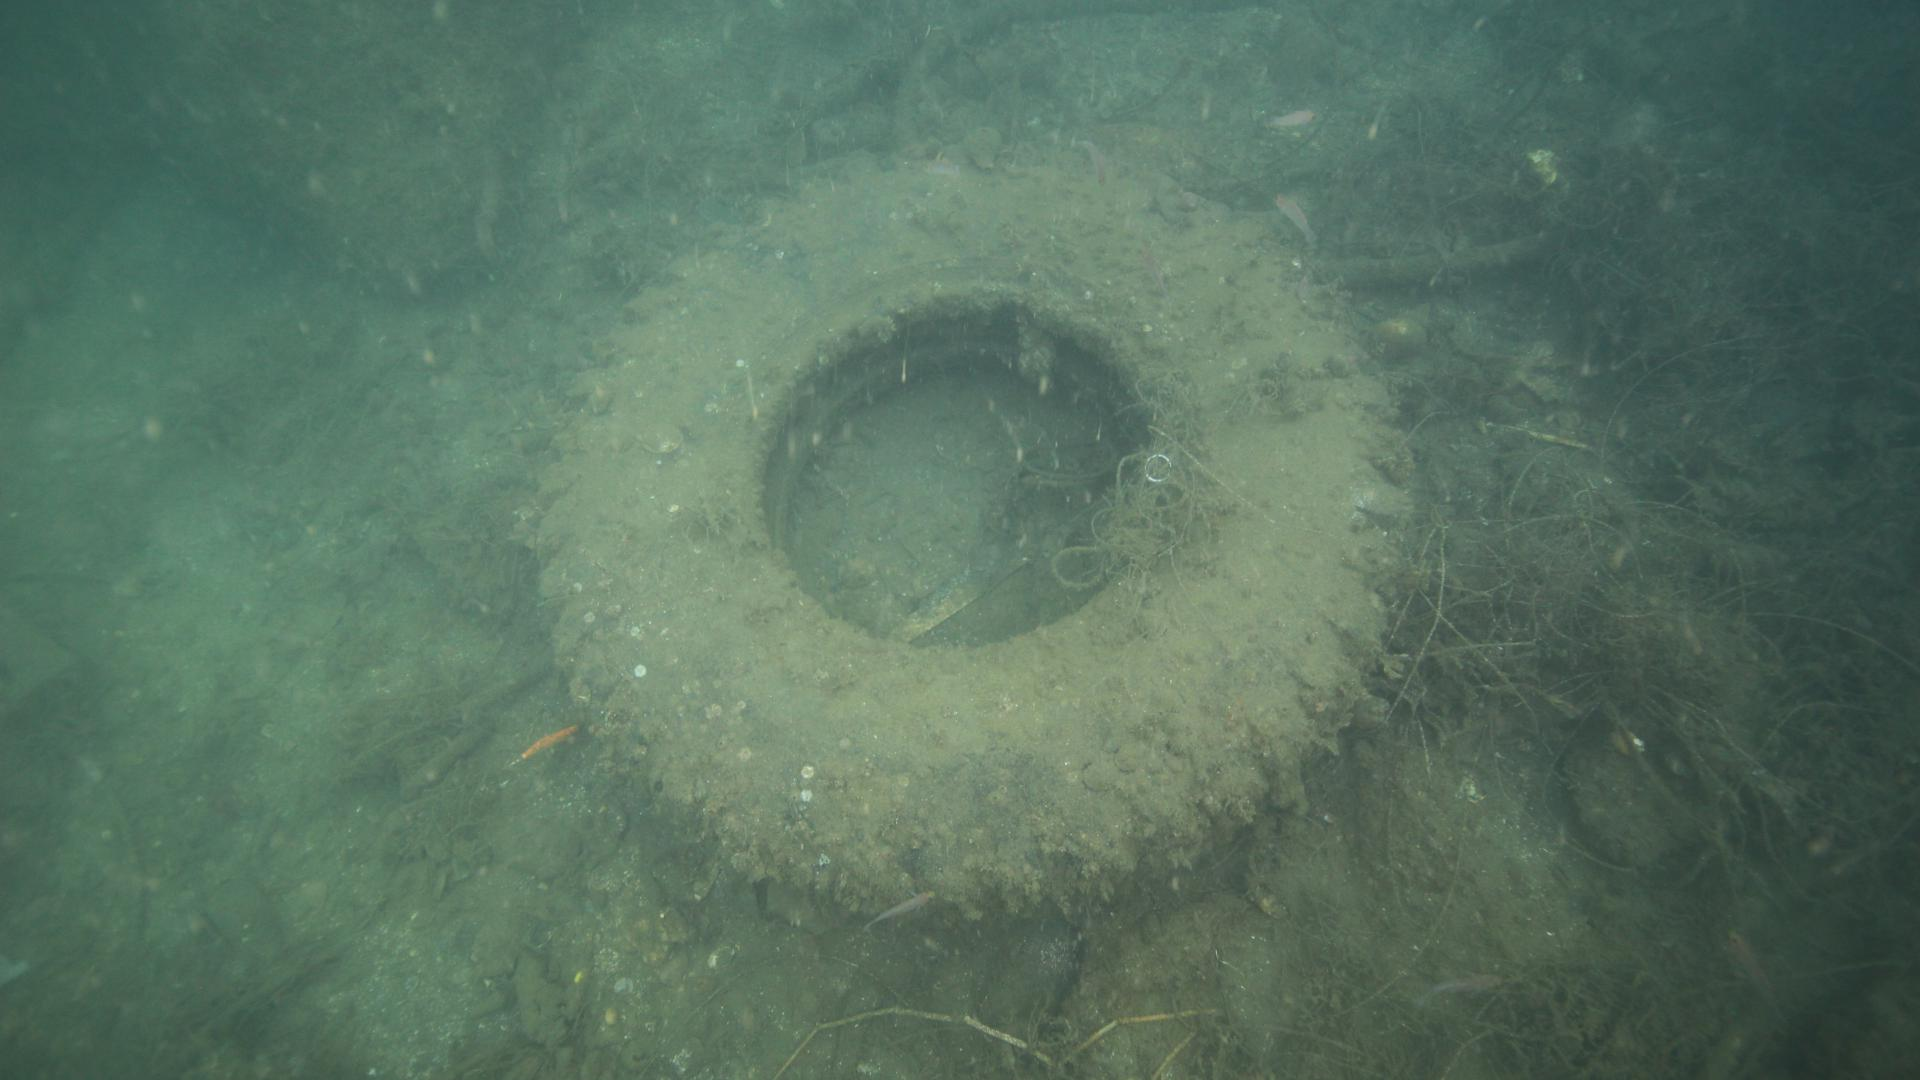tire: (547, 146, 1415, 938)
